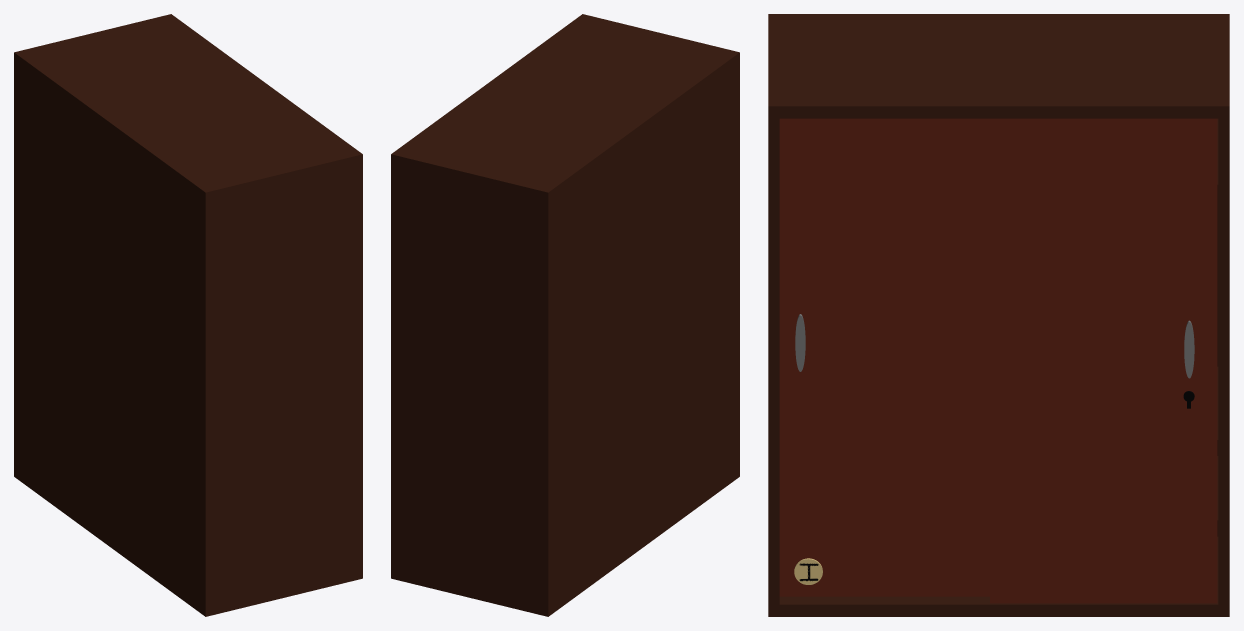
File: cupboard_3.fbx
3 views of the same model, side by side, from view 1: azimuth 30°, elevation 25°; view 2: azimuth 150°, elevation 25°; view 3: azimuth 270°, elevation 25° (orthographic). The views are drawn at different scales.
Parts seen in each view (by area): view 1: Cube; view 2: Cube; view 3: Cube.006, Cube.005, Cube, Cylinder.002.
Part boxes in pixels (box(x1,y1,x2,y2)): Cube: box(14, 14, 362, 616); Cube: box(391, 14, 739, 616); Cube.006: box(990, 118, 1217, 603); Cube.005: box(779, 118, 989, 596); Cube: box(768, 14, 1229, 616); Cylinder.002: box(794, 558, 822, 584).
Bounding box in the file's own units: 383 × 979 × 801.
